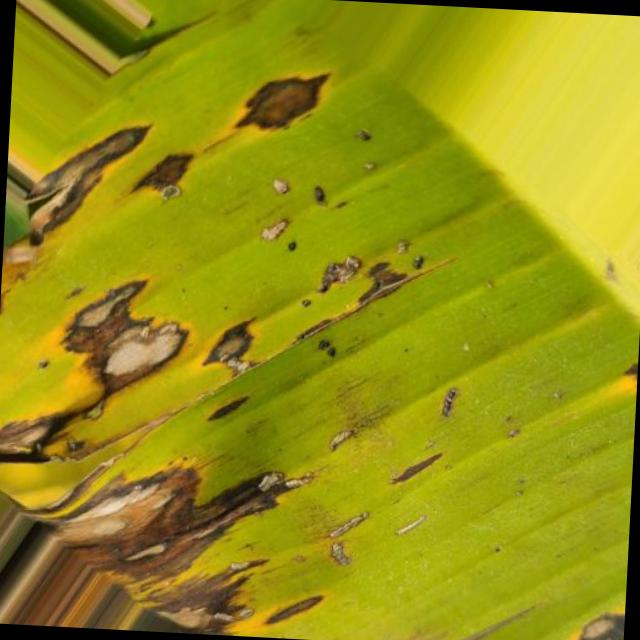Banana_Yellow_Sigatoka: (0, 426, 324, 640), (22, 120, 200, 266), (44, 266, 214, 392), (280, 216, 456, 330), (218, 72, 346, 142)
